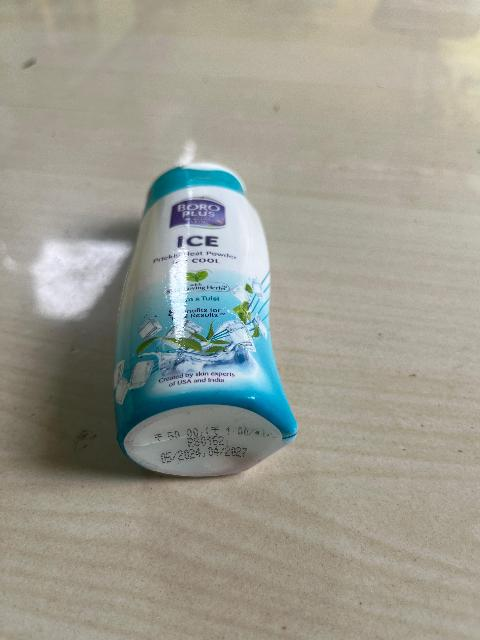boroplus: (100, 158, 298, 479)
